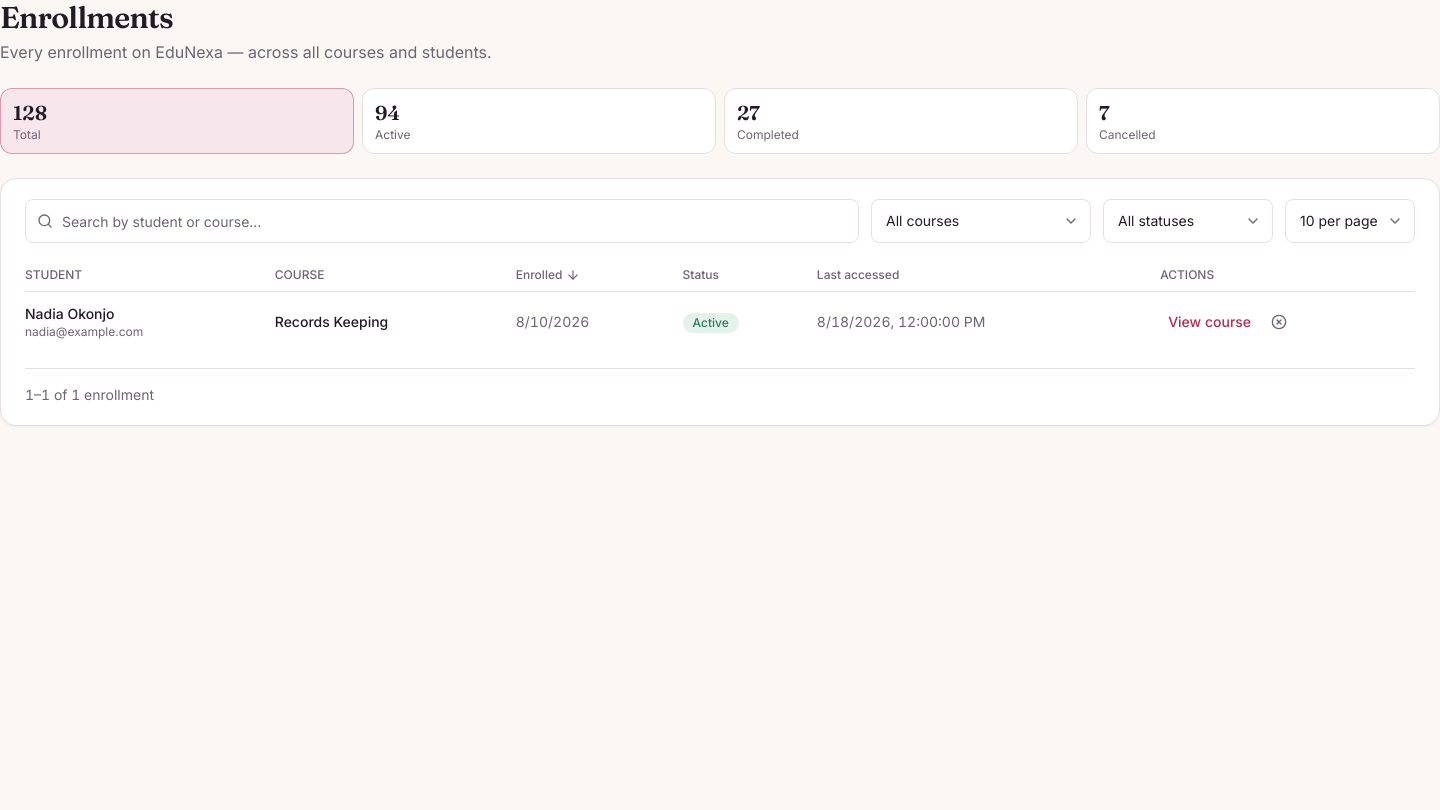
Test case: AdminEnrollmentsPage › cancels an enrollment after confirmation and reports it
Expected: the table is shown, [25,259,1415,352]
Click the button named "Cancel enrollment for Nadia Okonjo": coordinates (1279, 322) [1261,304,1297,340]
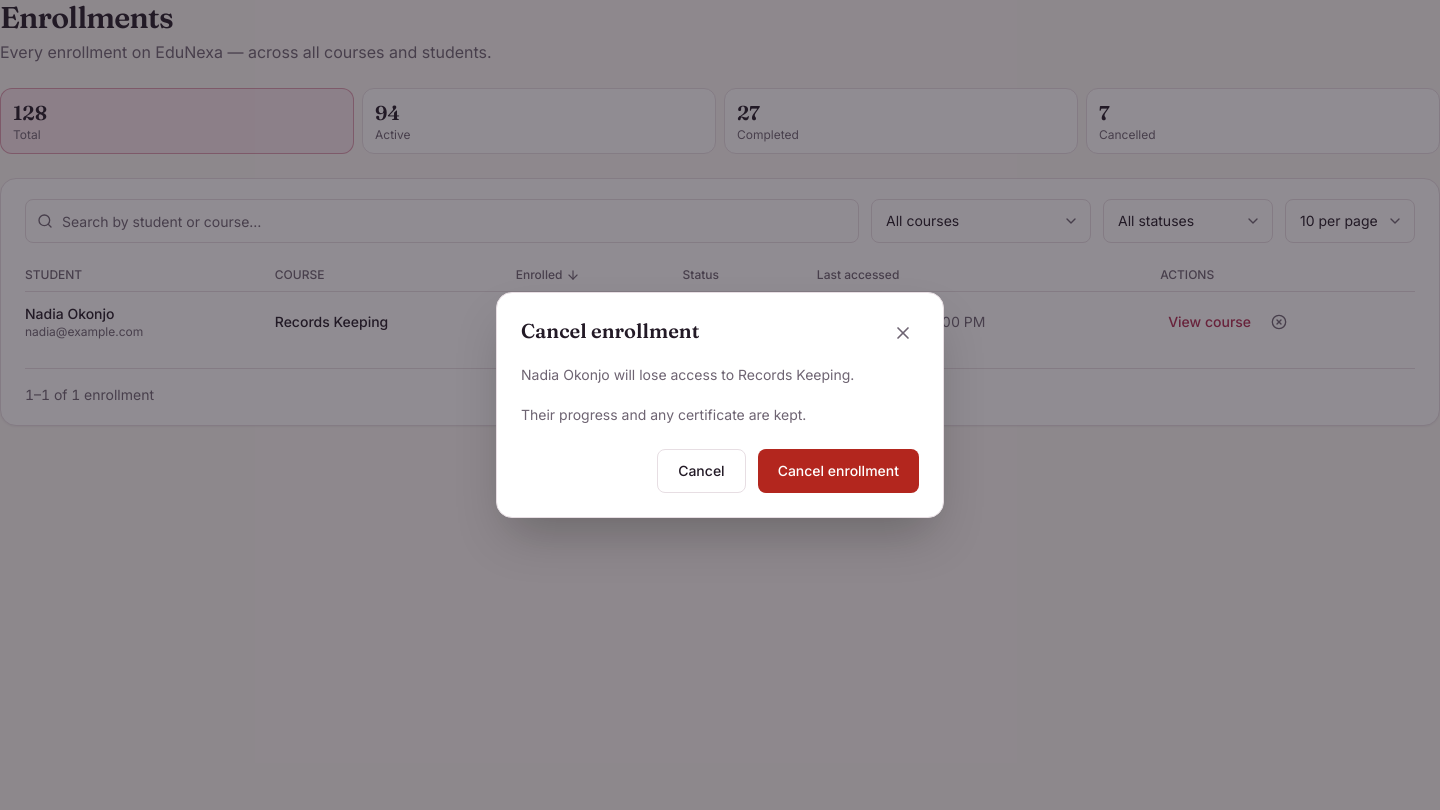
Now the text "will lose access to Records Keeping" is shown, box [521,366,854,423]
Click the button "Cancel enrollment": coordinates (838, 471) [758,449,919,493]
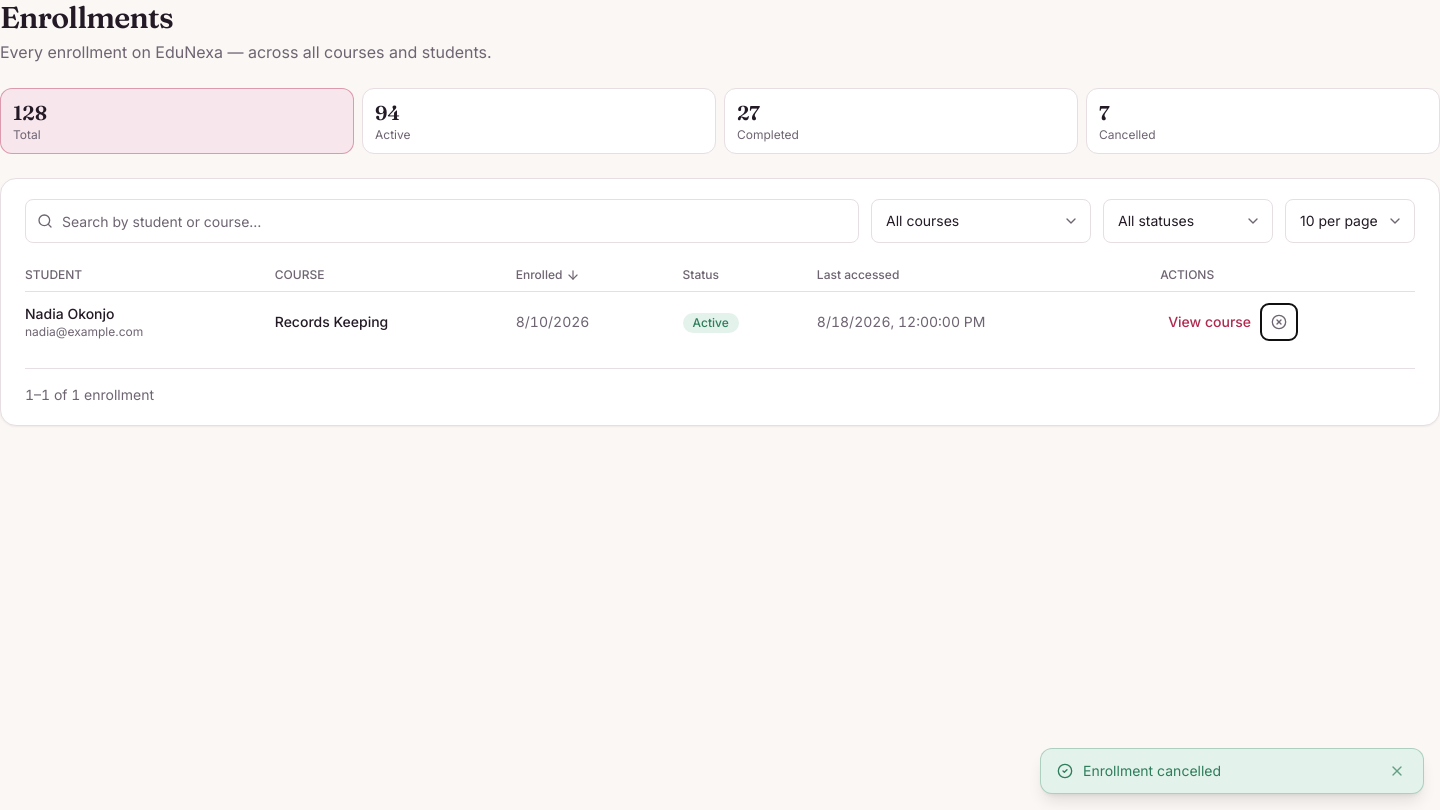
Now the text "Enrollment cancelled" is shown, box [1083,762,1221,779]
